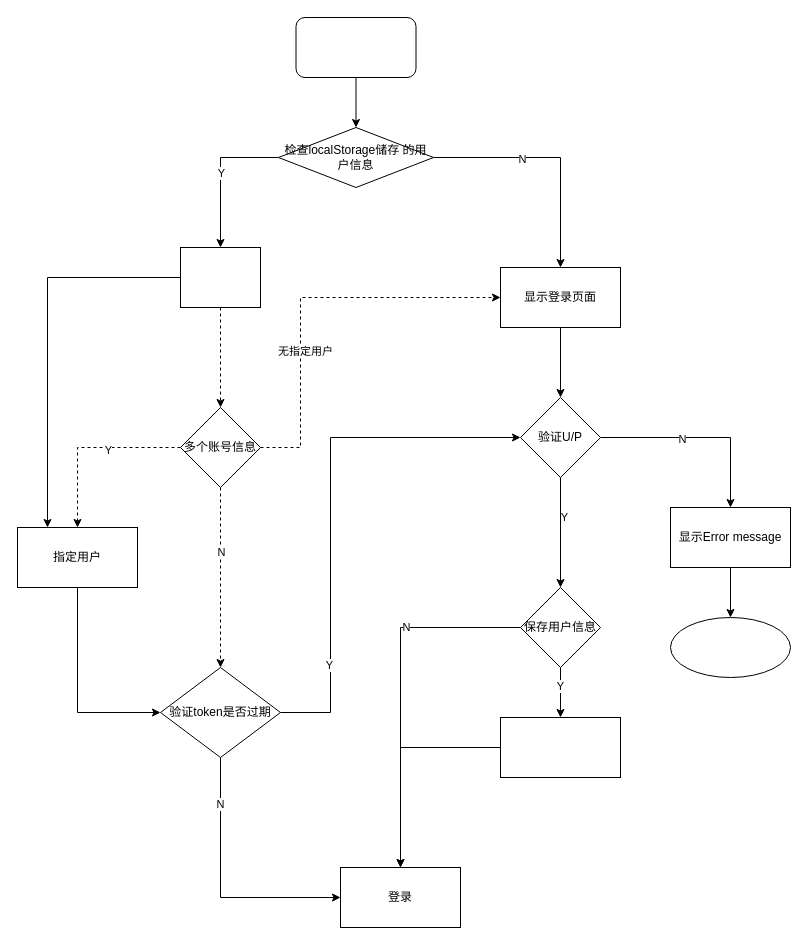
Some shapes in this 808 by 945 pixel diagram are drawn without their labels. Here are the shapes that lost their labels. From the top down, the centre of each, then its label:
At pixel 355 47: "加载登录页面".
At pixel 220 277: "获取用户信息".
At pixel 730 647: "END".
At pixel 560 747: "保存用户信息到localStorage".
